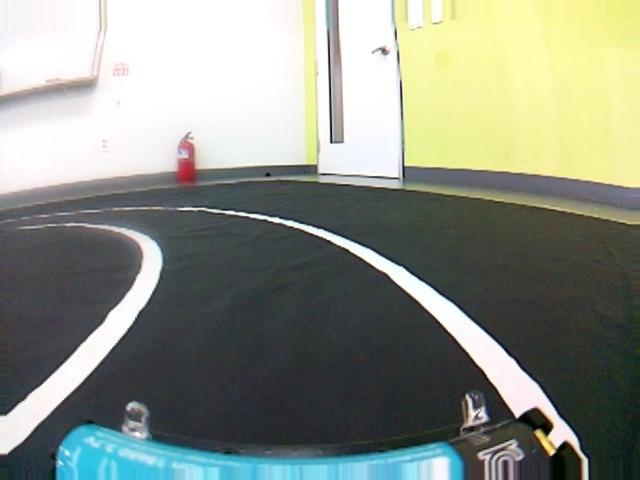left: (4, 202, 621, 480)
